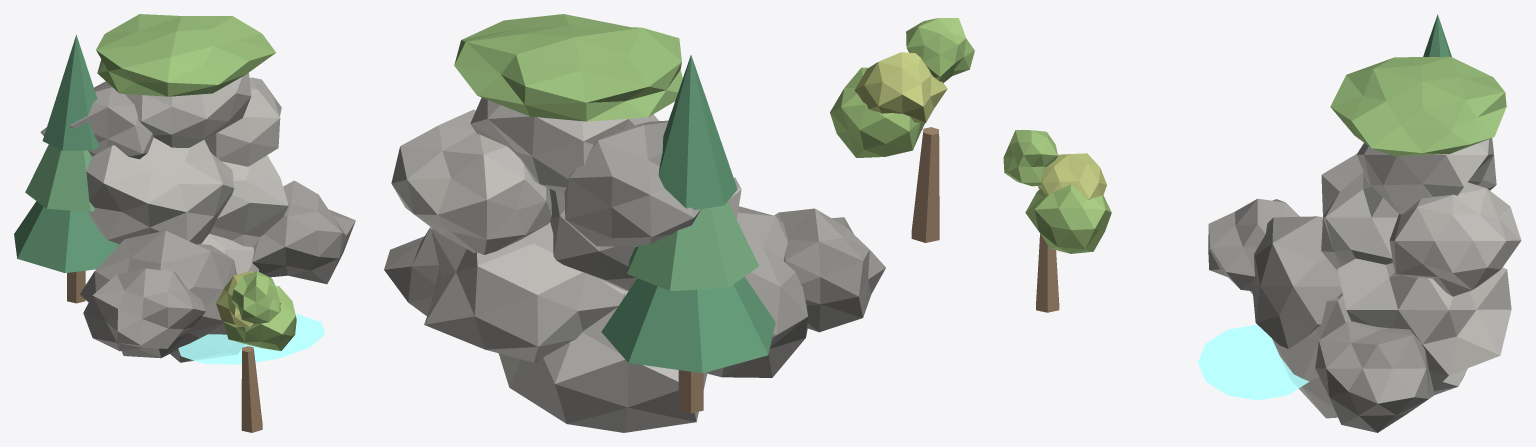
File: props_left.glb
3 renders of one model, left to right at view 1: azimuth 30°, elevation 25°; view 2: azimuth 150°, elevation 25°; view 3: azimuth 270°, elevation 25°, orthographic. The views are drawn at different scales.
Size of the model in its own units: 0.2665 by 0.2547 by 0.3452.
